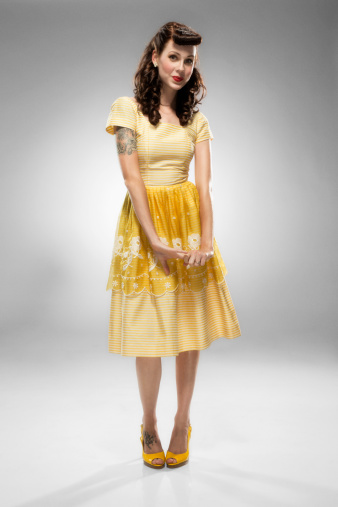em pe: (89, 22, 236, 446)
